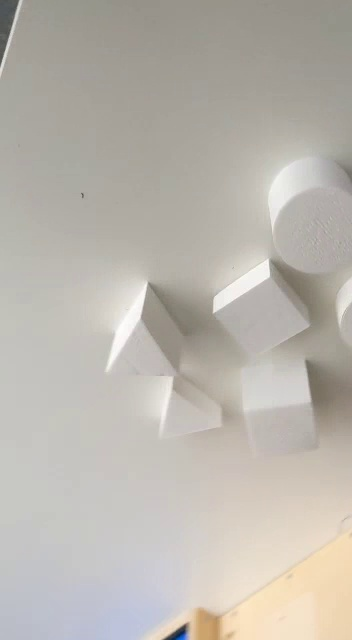Clyinder_short: (332, 273, 352, 346)
Cube: (236, 359, 323, 463)
Cube_short: (207, 257, 317, 360)
Cylinder: (265, 154, 352, 278)
Triangle: (100, 275, 191, 382)
Triangle_short: (152, 373, 227, 446)
